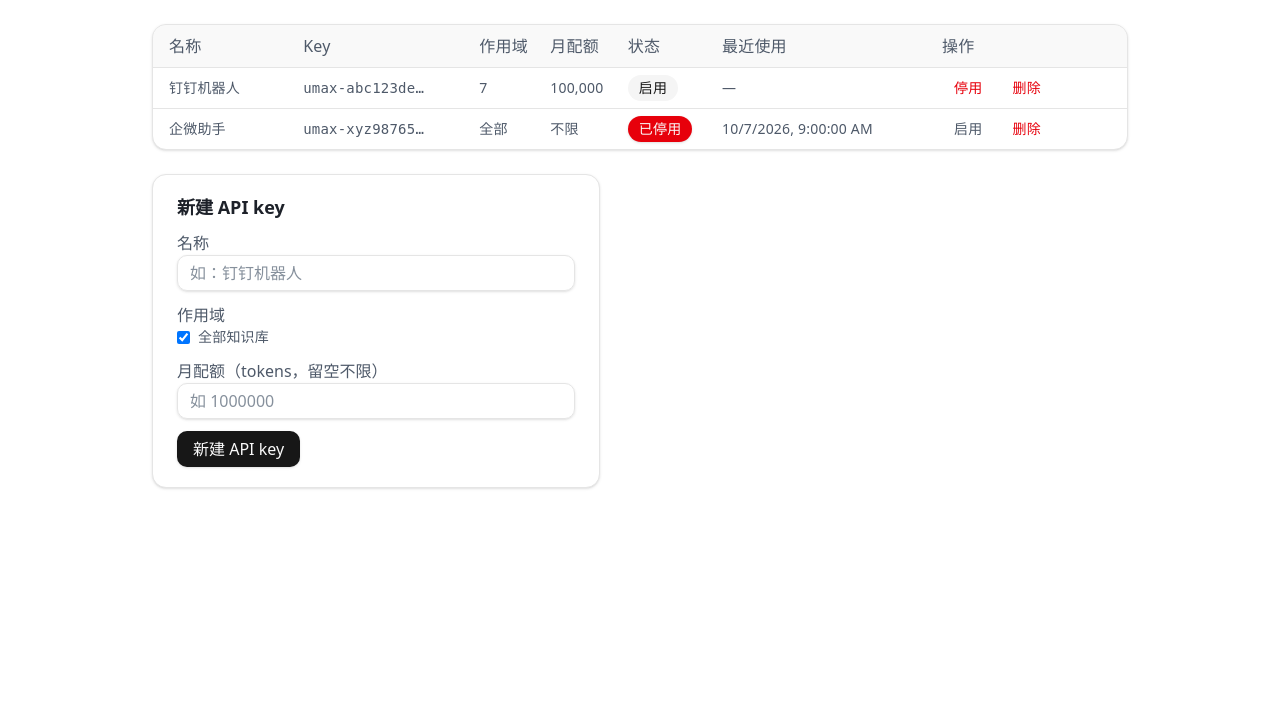
Scenario: API key 管理 › 新建：名称+全库默认，POST 收 {name, kb_ids:null, quota:null}，弹窗显明文且可关
Expected: the text "钉钉机器人" is shown, x1=153 y1=68 x2=303 y2=108
Type "新机器人" into the field labelled "名称" at point(376, 273), box x1=177 y1=255 x2=575 y2=291
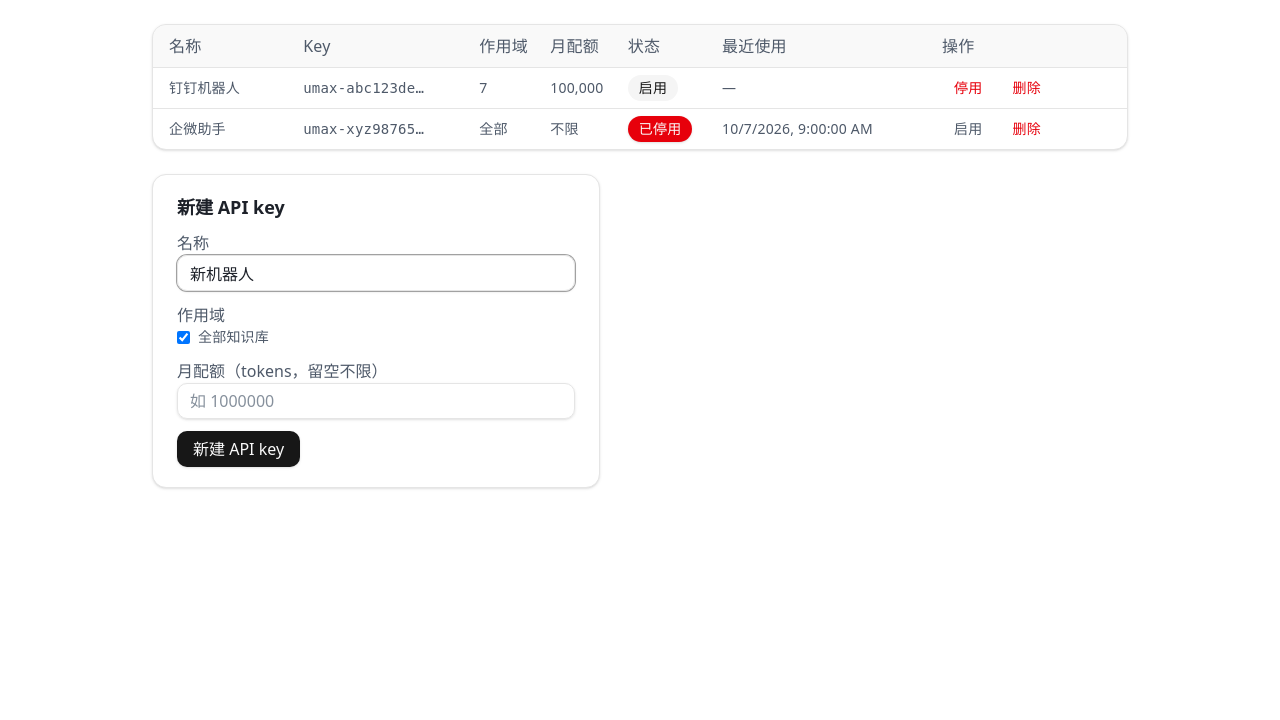
Click the button "新建 API key" at point(239, 449), box x1=177 y1=431 x2=300 y2=467
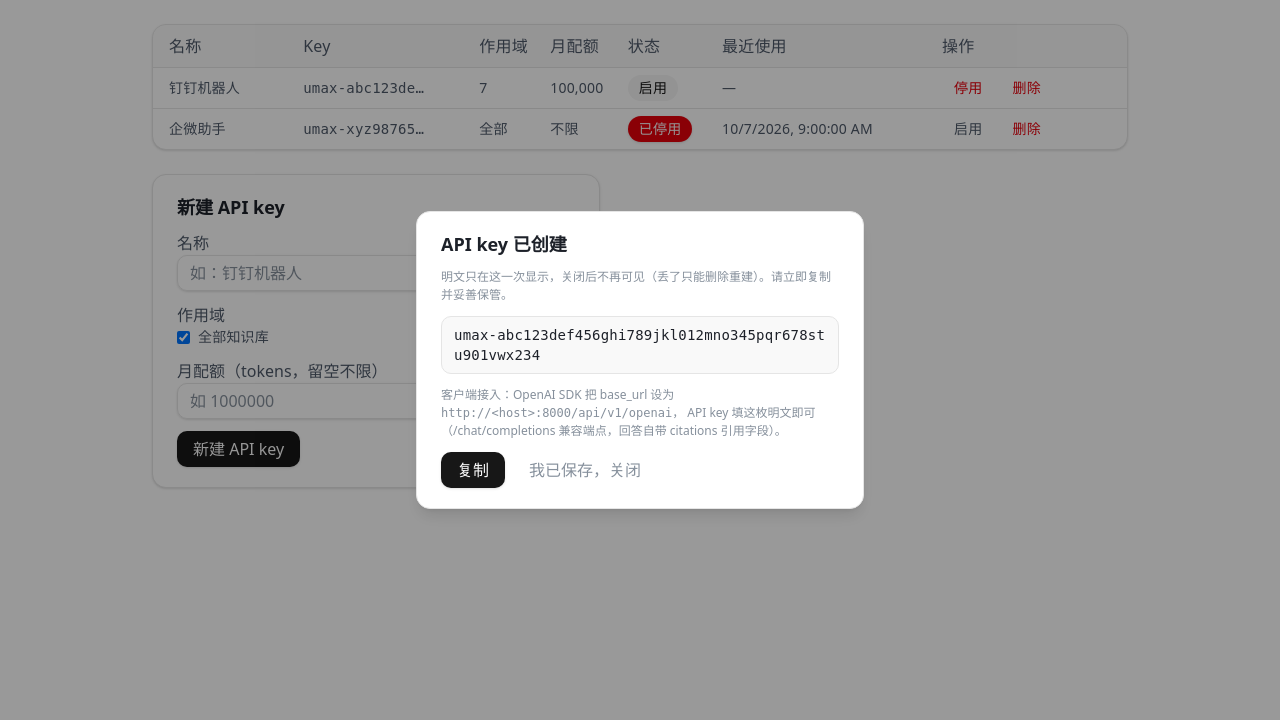
Now the text "umax-abc123def456ghi789jkl012mno345pqr678stu901vwx234" is shown, box x1=441 y1=316 x2=839 y2=374
Click the button "我已保存，关闭" at point(585, 470), box x1=513 y1=452 x2=657 y2=488
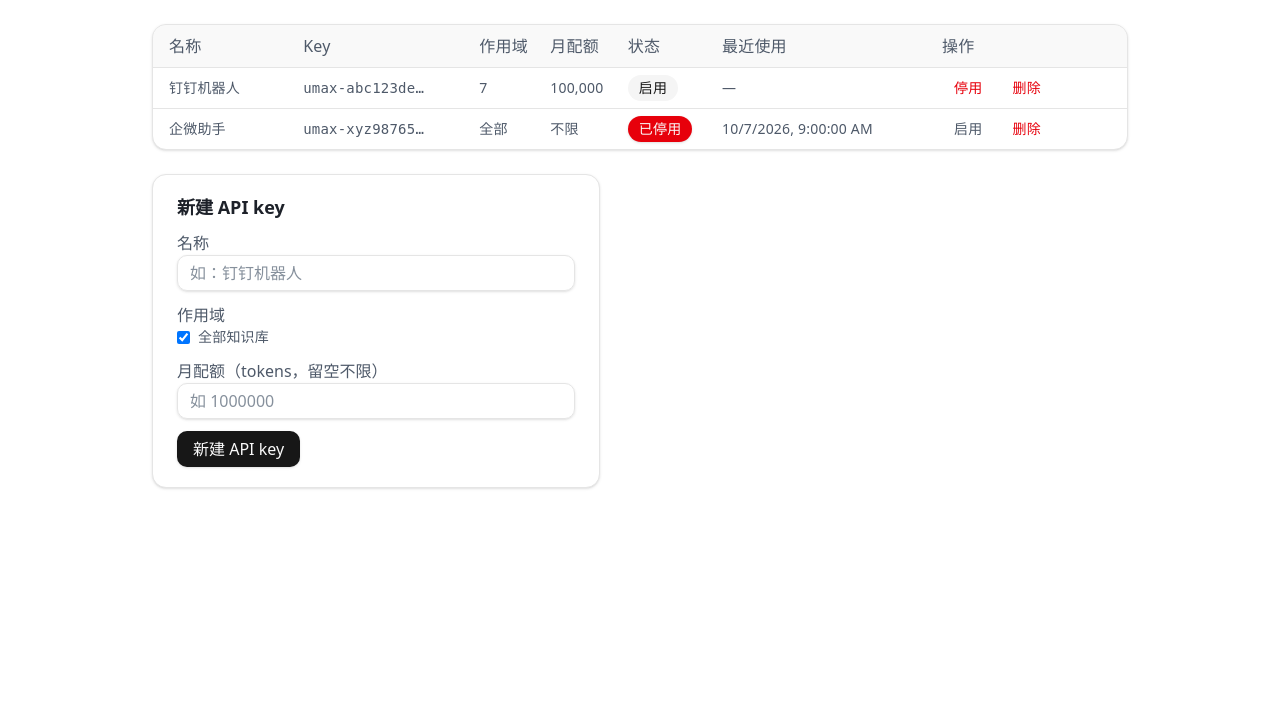
Now the dialog is gone
Now the text "umax-abc123def456ghi789jkl012mno345pqr678stu901vwx234" is gone
